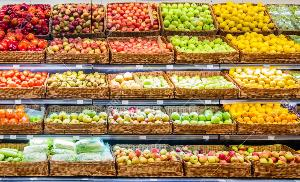apple: (242, 141, 300, 170), (106, 4, 162, 34), (50, 5, 104, 35), (114, 144, 178, 168), (161, 3, 215, 31), (169, 36, 228, 58), (109, 33, 167, 55), (178, 146, 240, 166), (171, 105, 227, 127), (109, 108, 169, 128), (49, 38, 108, 58), (169, 72, 230, 90), (110, 70, 140, 93), (142, 72, 168, 88)
apricot: (224, 104, 300, 130)
bell_pepper: (0, 4, 50, 32), (0, 34, 48, 52)
lemon: (218, 4, 274, 32), (232, 35, 300, 57), (232, 68, 294, 90)
pear: (48, 72, 106, 92)
tomato: (0, 67, 48, 91), (0, 108, 42, 127)
zucchini: (1, 146, 25, 168)
